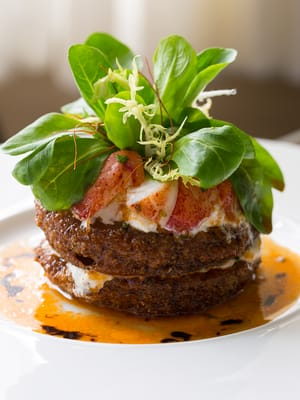soup: (1, 17, 296, 320)
